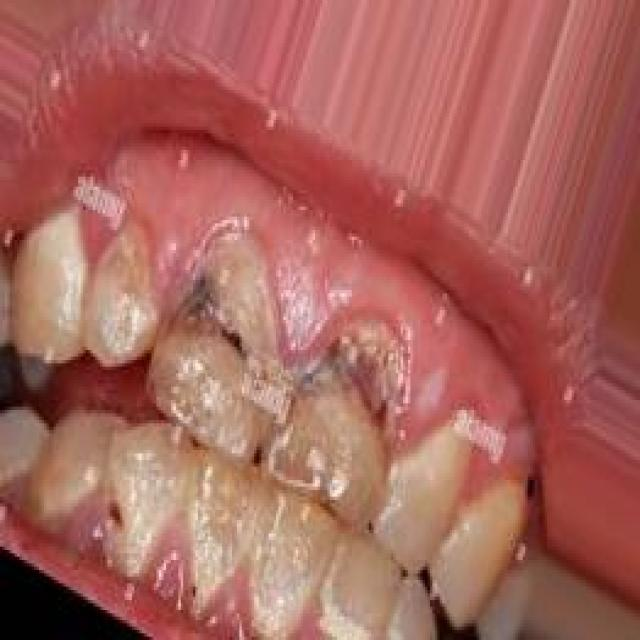caries: (304, 311, 412, 447), (169, 256, 259, 384), (96, 486, 136, 542)
